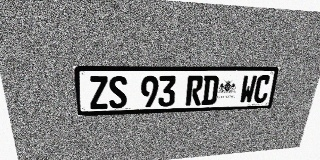3: (158, 76, 176, 107)
9: (141, 76, 159, 107)
C: (252, 75, 271, 103)
D: (201, 75, 219, 105)
R: (185, 75, 204, 106)
S: (108, 76, 127, 109)
W: (239, 75, 257, 104)
Z: (88, 76, 109, 109)
